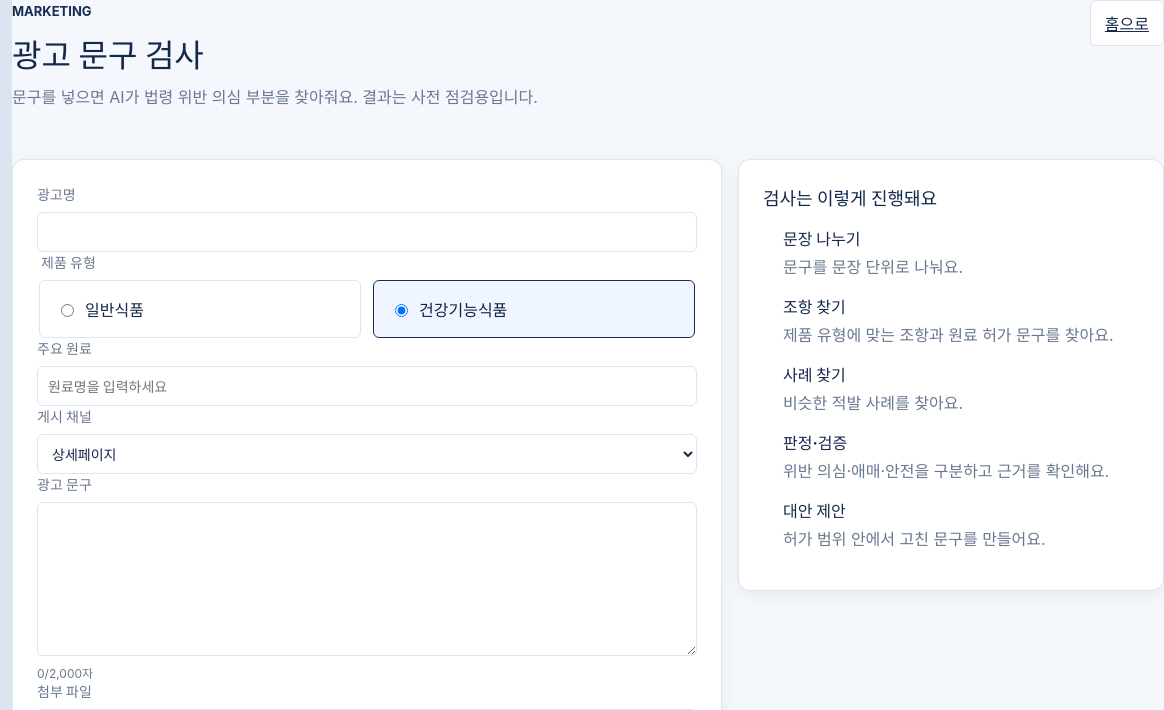
Test case: CheckFormPage › shows the approved marketing report and legal request action for compliant copy
Type "안전 광고" into the field labelled "광고명". click: point(367, 232)
box: [37,212,697,252]
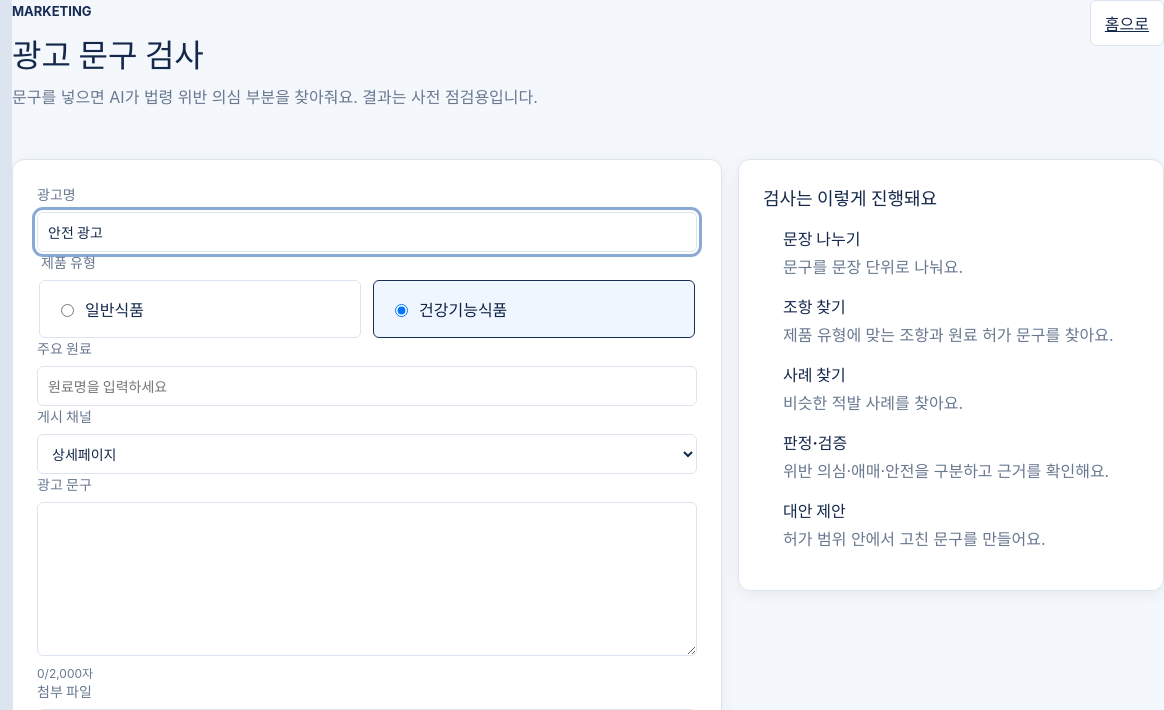
Type "건강한 생활에 도움을 줄 수 있어요" into the text box labelled "광고 문구 0/2,000자". click: point(367, 579)
box: [37,502,697,656]
(page scrolled)
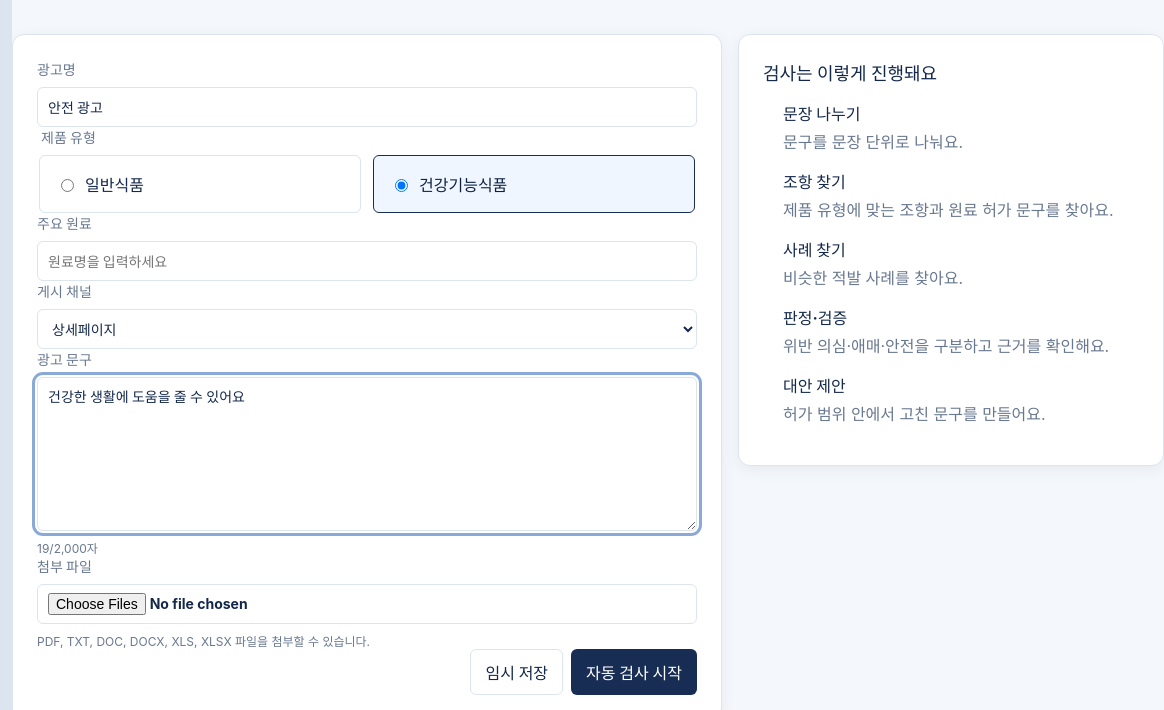
Click the button "자동 검사 시작". click: point(634, 672)
box: [571,649,697,695]
(page scrolled)
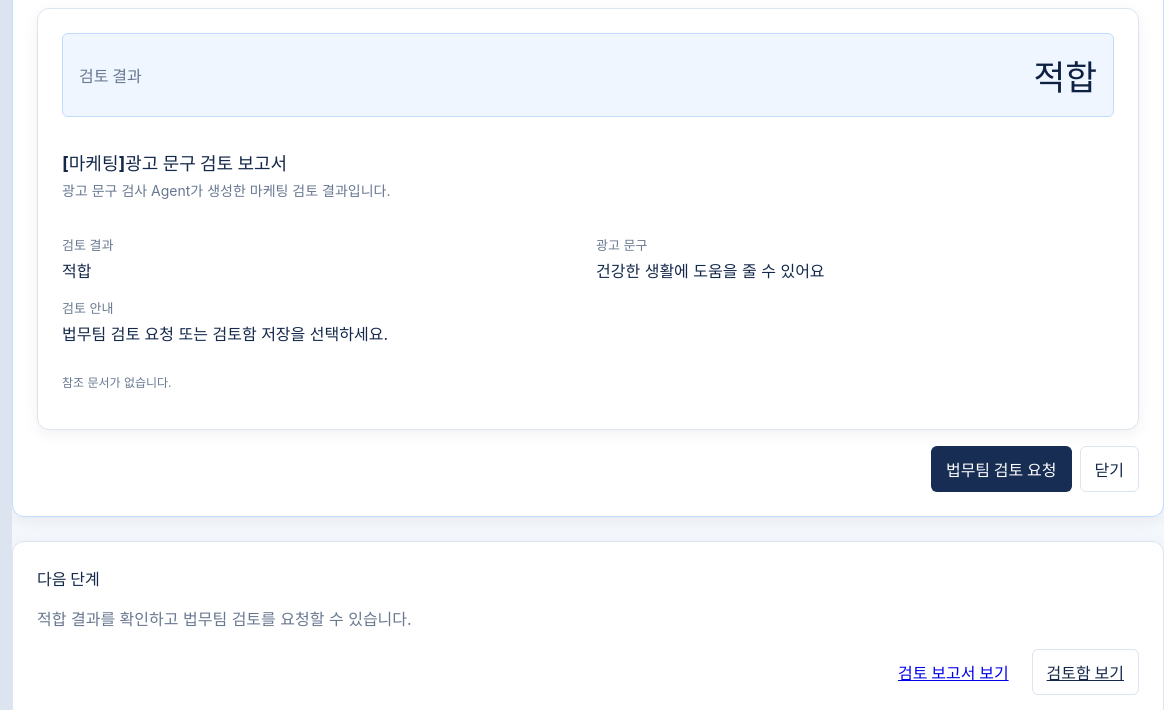
Now the heading "[마케팅]광고 문구 검토 보고서" is shown, box [62,153,287,174]
Now the button "법무팀 검토 요청" is shown, box [931,446,1072,492]
